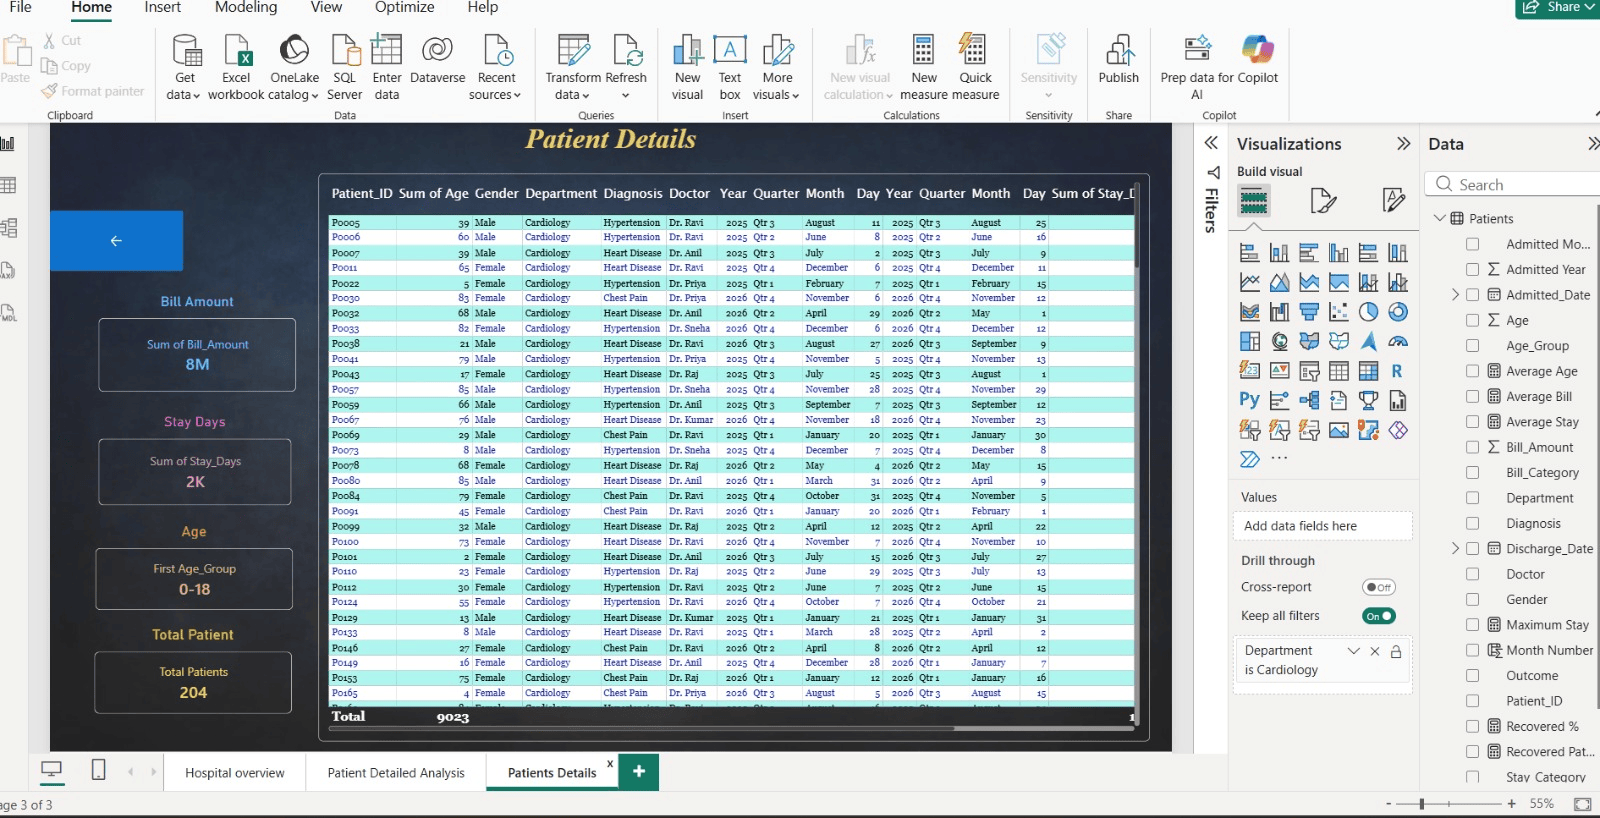

The dashboard page shown, as its layout file describes it:
{"tool":"powerbi","page":{"name":"Patients Details","canvas":[1920,1080],"ordinal":2},"visuals":[{"type":"cardVisual","title":"Age ","fields":{"Data":["Min(Patients.Age_Group)"]},"box":[78,684,338,150],"z":0},{"type":"cardVisual","title":"Stay Days","fields":{"Data":["Sum(Patients.Stay_Days)"]},"box":[84,498,330,158],"z":1000},{"type":"cardVisual","title":"Bill Amount ","fields":{"Data":["Sum(Patients.Bill_Amount)"]},"box":[84,292,338,170],"z":2000},{"type":"tableEx","fields":{"Values":["Patients.Patient_ID","Sum(Patients.Age)","Patients.Gender","Patients.Department","Patients.Diagnosis","Patients.Doctor","Patients.Admission_Date.Variation.Date Hierarchy.Year","Patients.Admission_Date.Variation.Date Hierarchy.Quarter","Patients.Admission_Date.Variation.Date Hierarchy.Month","Patients.Admission_Date.Variation.Date Hierarchy.Day","Patients.Discharge_Date.Variation.Date Hierarchy.Year","Patients.Discharge_Date.Variation.Date Hierarchy.Quarter"]},"box":[459.7,86.9,1422.4,971.8],"z":3000},{"type":"actionButton","box":[0,150,228,104],"z":4000},{"type":"textbox","box":[0,0,1920,118],"z":5000},{"type":"cardVisual","title":"Total Patient","fields":{"Data":["Patients.Total Patients"]},"box":[76,862,338,150],"z":6000}]}

Visuals, with their boxes on the page's 1920x1080 design canvas (x1, y1, x2, y2). These are canvas units, not pixel positions in the 1600x818 screenshot, which may show the page scaled, cropped or inside an application window:
"Age " cardVisual: (x1=78, y1=684, x2=416, y2=834)
"Stay Days" cardVisual: (x1=84, y1=498, x2=414, y2=656)
"Bill Amount " cardVisual: (x1=84, y1=292, x2=422, y2=462)
tableEx - Patients.Patient_ID x Sum(Patients.Age): (x1=460, y1=87, x2=1882, y2=1059)
actionButton: (x1=0, y1=150, x2=228, y2=254)
textbox: (x1=0, y1=0, x2=1920, y2=118)
"Total Patient" cardVisual: (x1=76, y1=862, x2=414, y2=1012)
